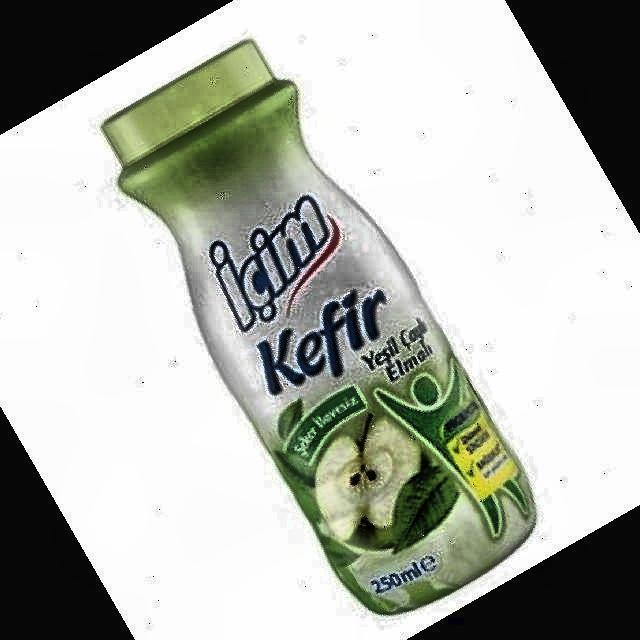plastic: (102, 41, 535, 614)
